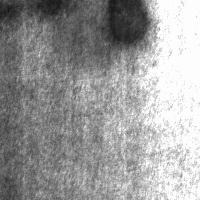patches: (52, 0, 140, 72), (104, 1, 148, 42), (1, 1, 67, 25)
